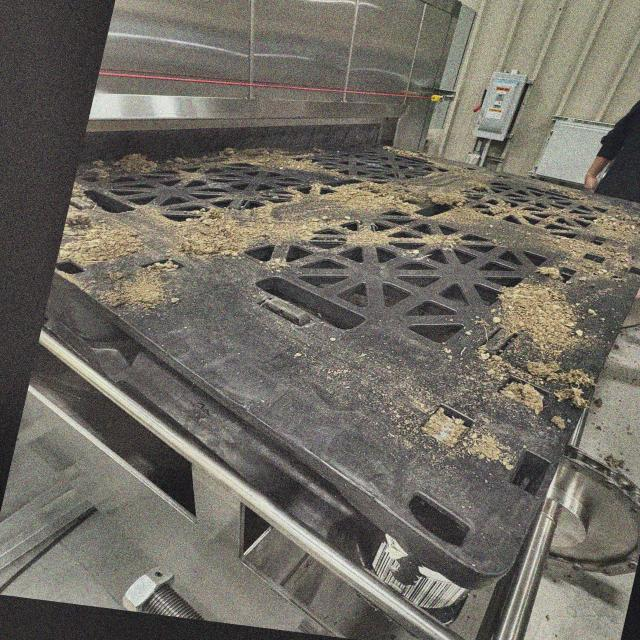igps: (32, 130, 640, 640)
